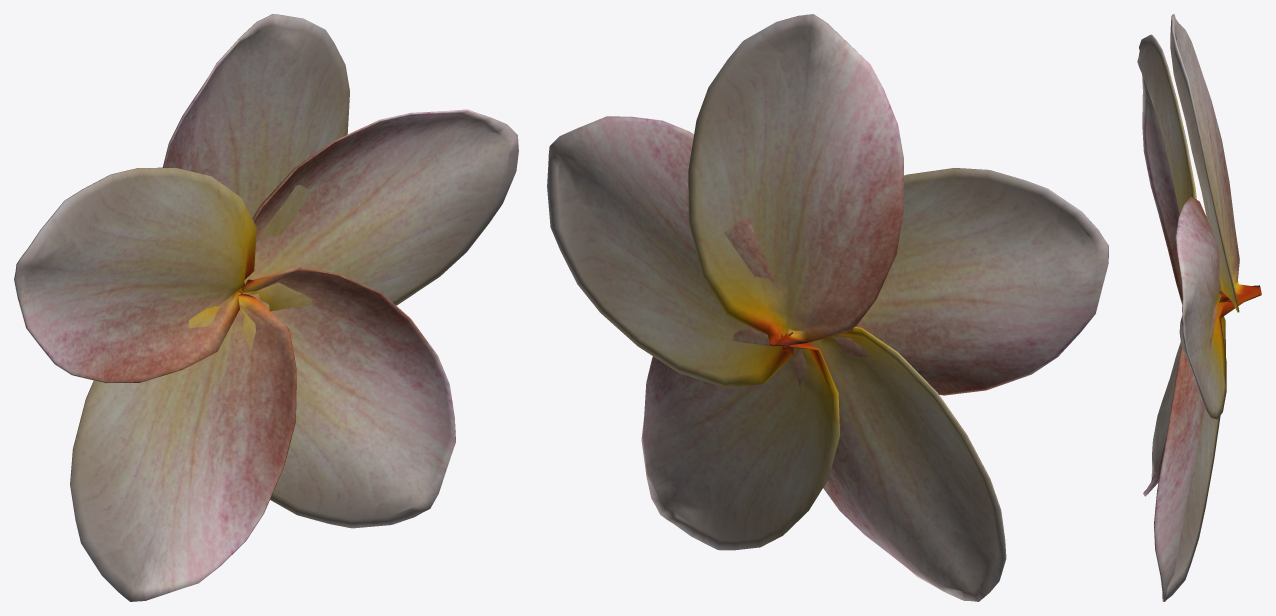
Rendered from frangipani-low.glb.
3 views of the same model, side by side, from view 1: azimuth 30°, elevation 25°; view 2: azimuth 150°, elevation 25°; view 3: azimuth 270°, elevation 25° (orthographic). The views are drawn at different scales.
Visible parts, largest first — view 1: Leaf.004, Leaf.005, Leaf.003, Leaf.002, Leaf.001; view 2: Leaf.001, Leaf.005, Leaf.002, Leaf.004, Leaf.003; view 3: Leaf.003, Leaf.001, Leaf.002, Leaf.005, Leaf.004.
Boxes of the visible parts, bbox=[...] form: Leaf.004: bbox=[70, 293, 296, 601]; Leaf.005: bbox=[14, 167, 256, 383]; Leaf.003: bbox=[236, 267, 455, 528]; Leaf.002: bbox=[237, 109, 518, 311]; Leaf.001: bbox=[162, 14, 349, 242]; Leaf.001: bbox=[688, 14, 903, 346]; Leaf.005: bbox=[832, 168, 1108, 395]; Leaf.002: bbox=[547, 116, 793, 387]; Leaf.004: bbox=[792, 326, 1006, 601]; Leaf.003: bbox=[641, 326, 840, 550]; Leaf.003: bbox=[1153, 291, 1229, 601]; Leaf.001: bbox=[1170, 14, 1261, 312]; Leaf.002: bbox=[1175, 197, 1243, 419]; Leaf.005: bbox=[1137, 34, 1196, 304]; Leaf.004: bbox=[1143, 300, 1231, 496].
Size of the model in its own units: 1.01 by 1 by 0.2135.
1 material, 1 textured.
